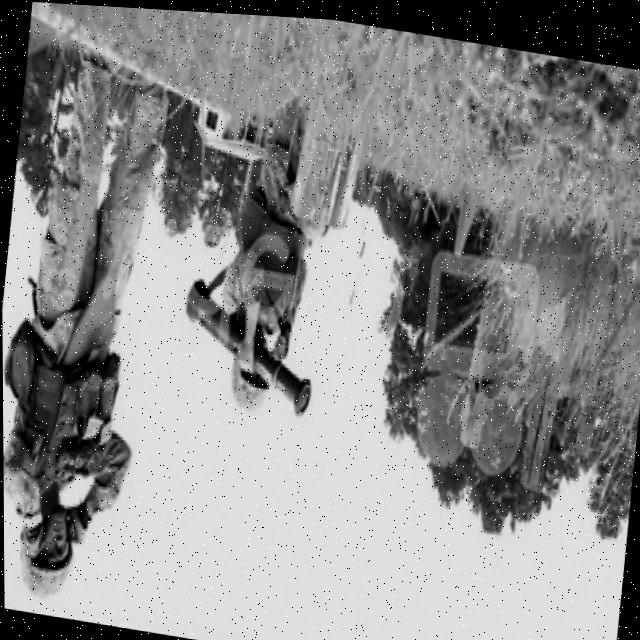rocket: (175, 266, 316, 411)
